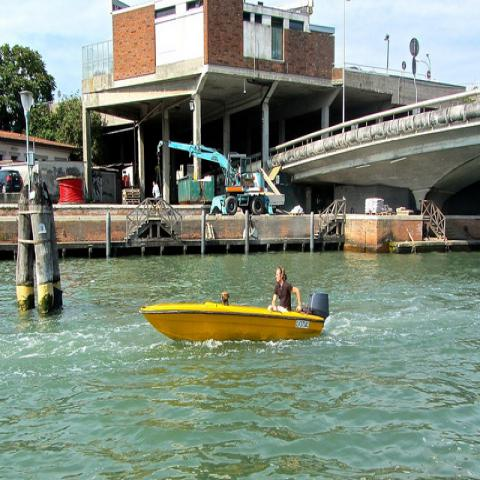car: (0, 170, 24, 194), (346, 66, 359, 70)
